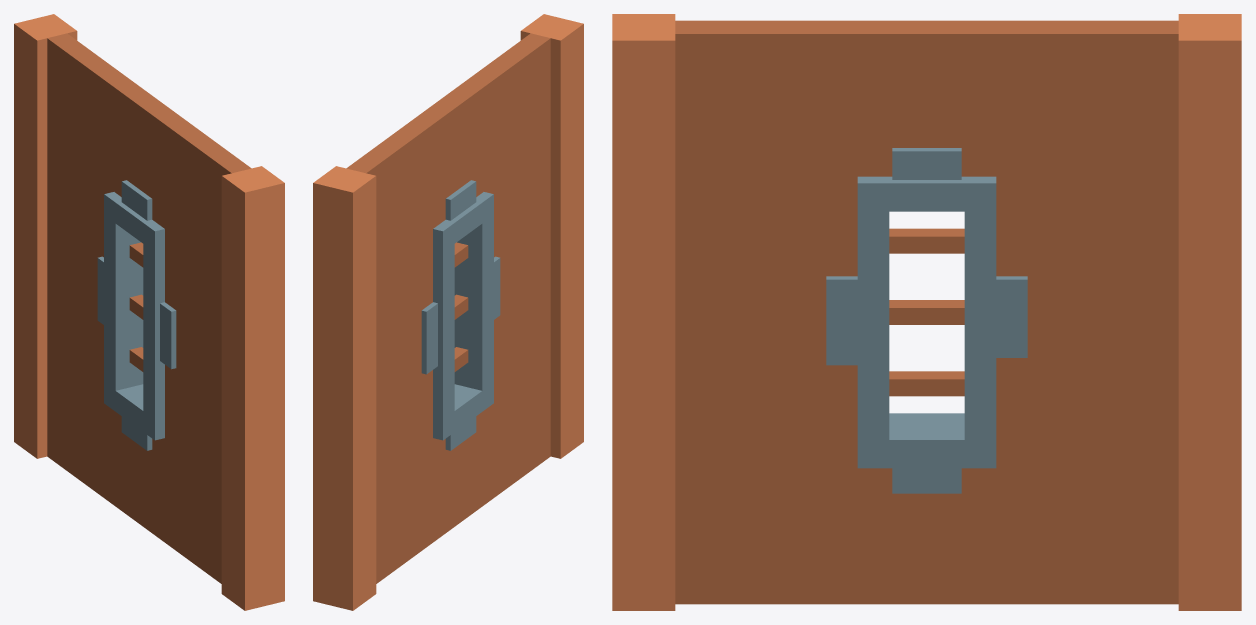
Rendered from wallWoodWindowStone.fbx.
3 views of the same model, side by side, from view 1: azimuth 30°, elevation 25°; view 2: azimuth 150°, elevation 25°; view 3: azimuth 270°, elevation 25° (orthographic). The views are drawn at different scales.
Parts seen in each view (by area): view 1: wallWoodWindowStone; view 2: wallWoodWindowStone; view 3: wallWoodWindowStone.
Part boxes in pixels (<box>): wallWoodWindowStone: <box>14,14,284,610</box>; wallWoodWindowStone: <box>313,14,583,610</box>; wallWoodWindowStone: <box>612,14,1241,610</box>.
Bounding box in the file's own units: 1 × 10 × 10.
